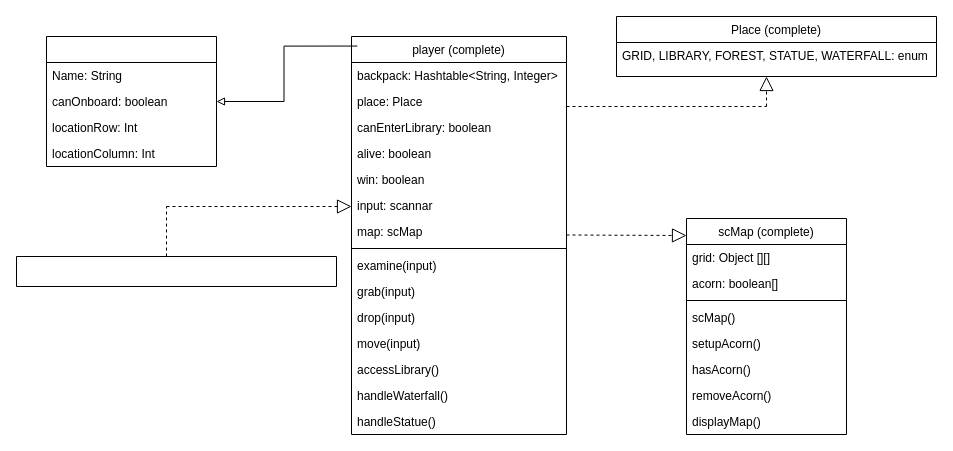
Image size: 953x451. Some labels were removed from this diagram. Here are the shapes that lost their labels. From the top down, the box of each, then its label:
(46, 36, 216, 166): character (complete)
(16, 256, 336, 286): gameLoop (complete)
